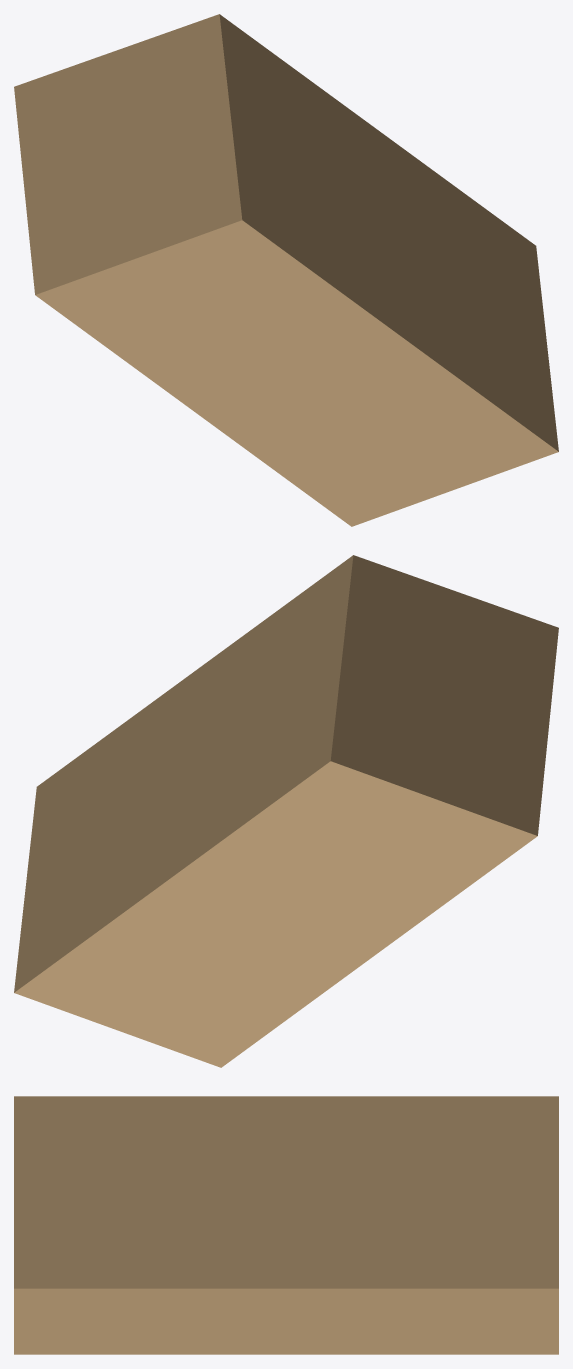
The picture shows the model from 3 angles, top to bottom: view 1: azimuth 30°, elevation 25°; view 2: azimuth 150°, elevation 25°; view 3: azimuth 270°, elevation 25°; orthographic projection. The views are drawn at different scales.
Visible parts, largest first — view 1: 0_0_3_2_0_1_1_0_3_3; view 2: 0_0_3_2_0_1_1_0_3_3; view 3: 0_0_3_2_0_1_1_0_3_3.
Boxes of the visible parts, left/top/right/bottom form: 0_0_3_2_0_1_1_0_3_3: left=14, top=14, right=558, bottom=526; 0_0_3_2_0_1_1_0_3_3: left=14, top=555, right=558, bottom=1067; 0_0_3_2_0_1_1_0_3_3: left=14, top=1096, right=558, bottom=1354.
Size of the model in its own units: 8.74 by 8.64 by 21.
